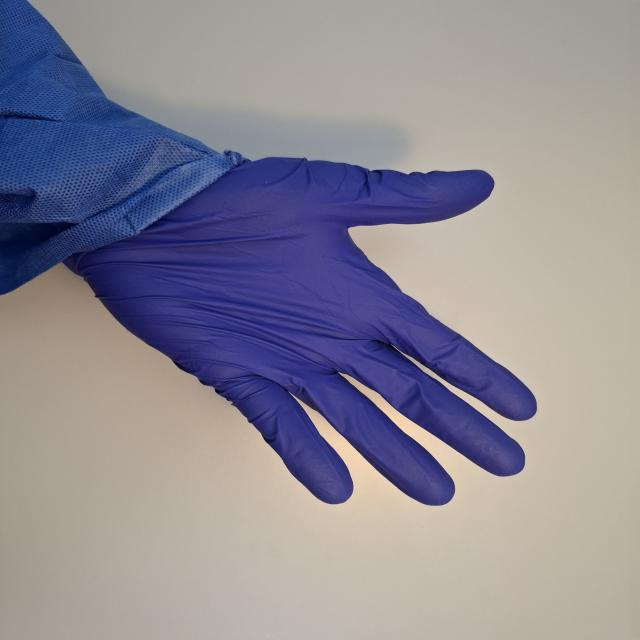glove_on: (57, 153, 544, 509)
